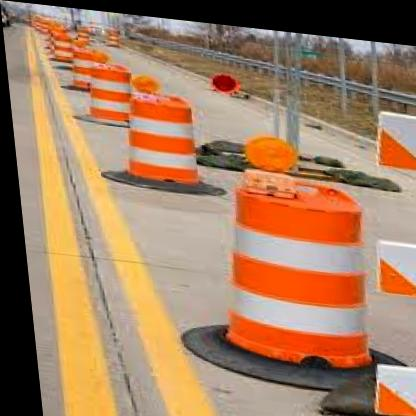obstacle: (197, 169, 375, 369), (115, 83, 200, 180)
